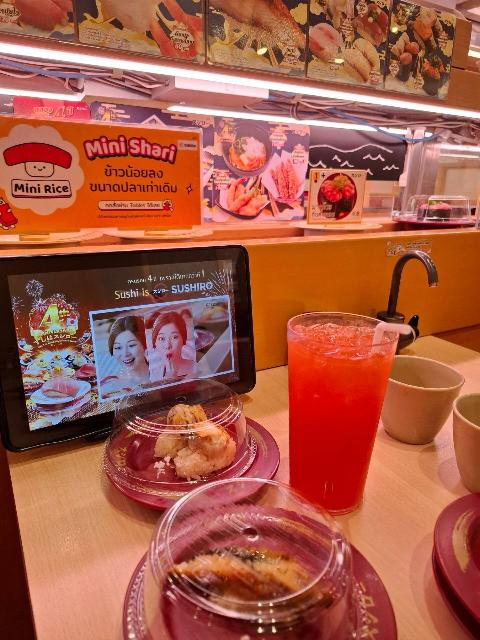janred: (133, 522, 417, 640), (108, 409, 281, 509), (418, 494, 480, 638), (389, 201, 468, 226)
